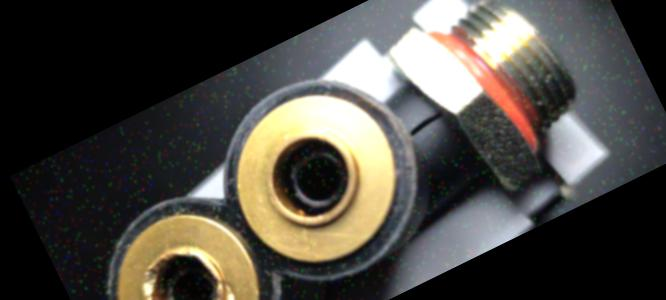craze: (405, 104, 450, 139)
